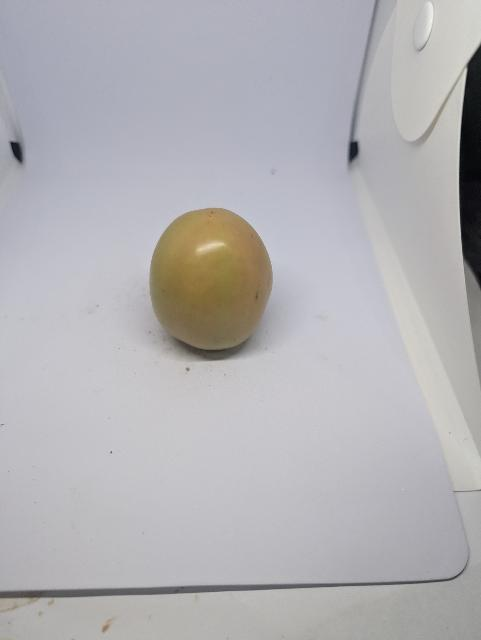breaker: (150, 207, 273, 350)
